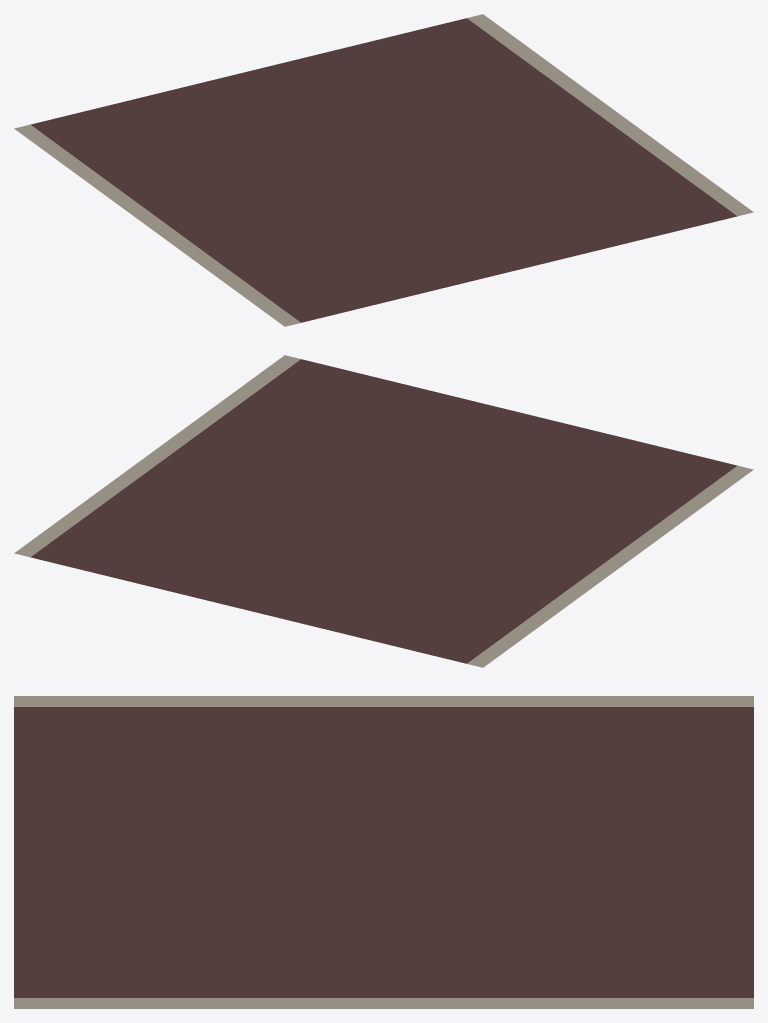
File: Road_4_Parking.fbx
The picture shows the model from 3 angles, top to bottom: view 1: azimuth 30°, elevation 25°; view 2: azimuth 150°, elevation 25°; view 3: azimuth 270°, elevation 25°; orthographic projection. The views are drawn at different scales.
Parts seen in each view (by area): view 1: Road_4_Parking; view 2: Road_4_Parking; view 3: Road_4_Parking.
Boxes of the visible parts, x1=… form: Road_4_Parking: x1=14, y1=14, x2=753, y2=326; Road_4_Parking: x1=14, y1=355, x2=753, y2=667; Road_4_Parking: x1=14, y1=696, x2=753, y2=1008.
Size of the model in its own units: 5 by 6.66e-07 by 5.
